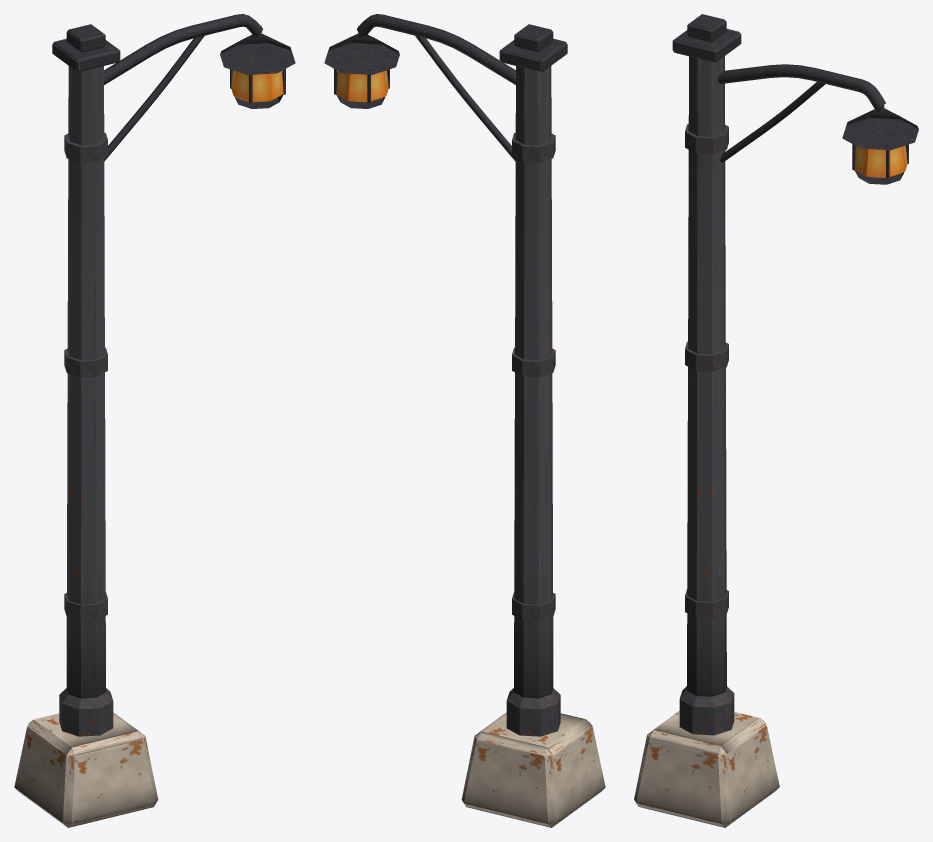
File: Lamp_Street.fbx
The picture shows the model from 3 angles, left to right: view 1: azimuth 30°, elevation 25°; view 2: azimuth 150°, elevation 25°; view 3: azimuth 330°, elevation 25°; orthographic projection.
Parts seen in each view (by area): view 1: Lamp_Street_Pole, Lamp_Street_Head; view 2: Lamp_Street_Pole, Lamp_Street_Head; view 3: Lamp_Street_Pole, Lamp_Street_Head.
Part boxes in pixels (<box>): Lamp_Street_Pole: <box>14,14,262,827</box>; Lamp_Street_Head: <box>220,26,295,108</box>; Lamp_Street_Pole: <box>357,14,605,827</box>; Lamp_Street_Head: <box>324,26,399,108</box>; Lamp_Street_Pole: <box>634,14,885,827</box>; Lamp_Street_Head: <box>842,101,918,184</box>.
Size of the model in its own units: 1.36 by 3.94 by 0.5119.
2 materials, 2 textured.
